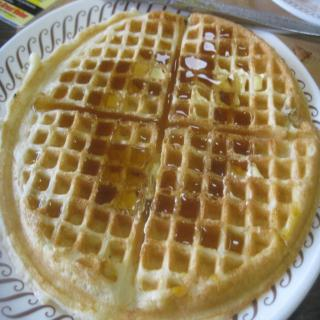Waffle: (0, 6, 320, 320)
